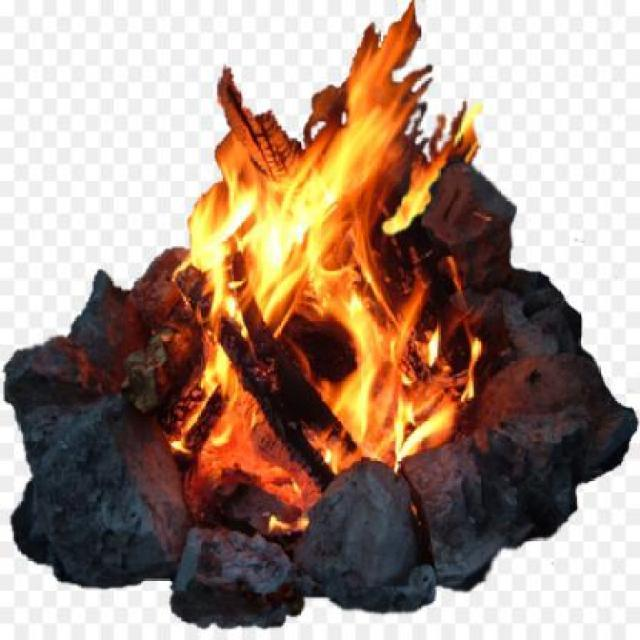Fire: (142, 8, 519, 545)
